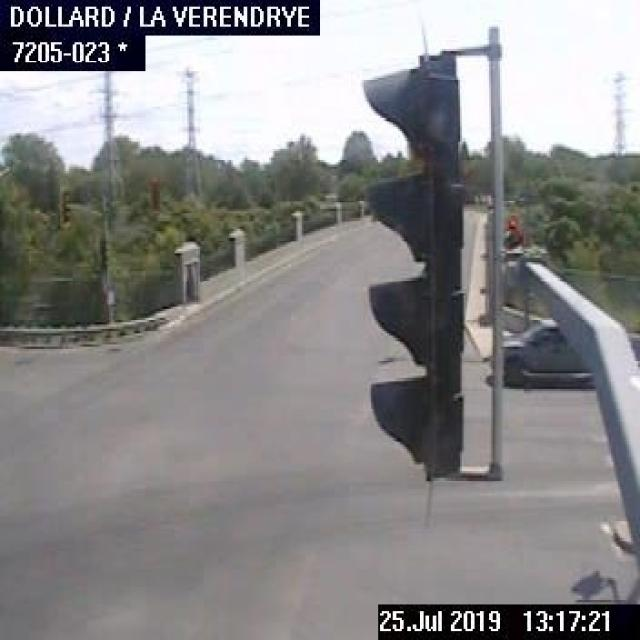vehicle: (500, 318, 589, 387)
